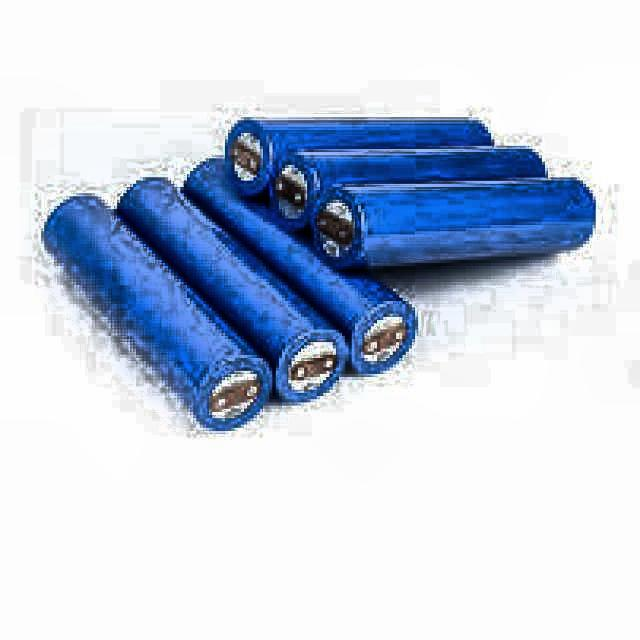Non-Valuable Waste - Batteries: (118, 176, 350, 402), (311, 179, 596, 269), (267, 145, 547, 232)
